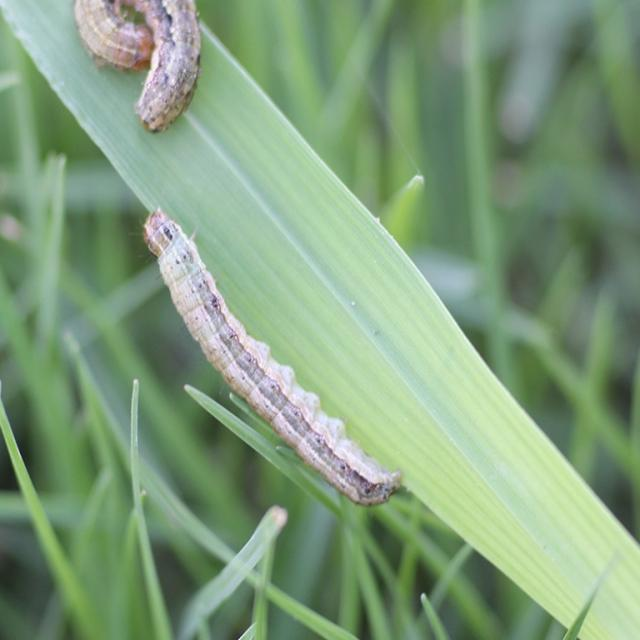worm: (142, 207, 403, 508), (74, 1, 203, 134)
